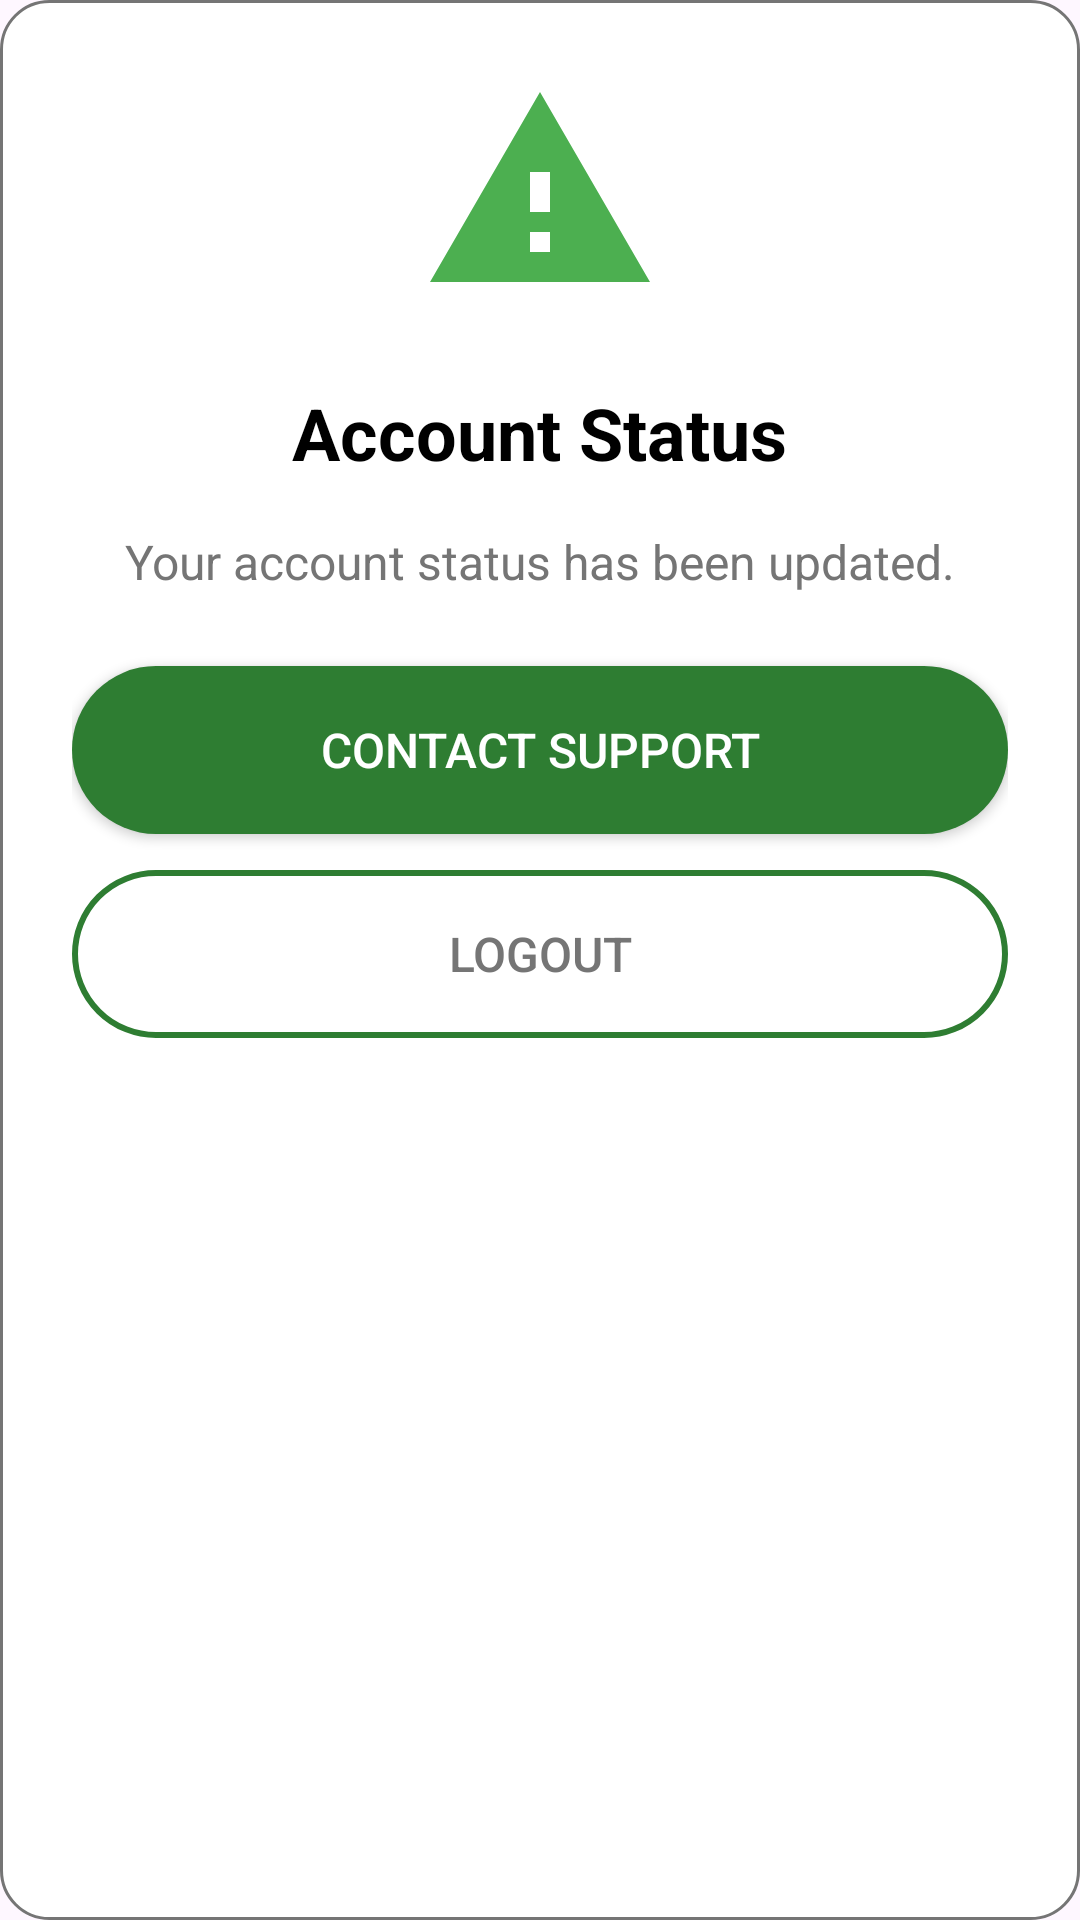

Where to tap for icons on this 1080 × 1920 app screen, as (x=x, y=y):
Warning icon: (x=540, y=187)
